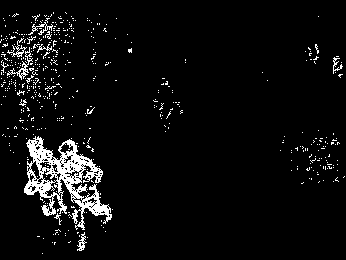person: (56, 139, 113, 250), (24, 137, 69, 224), (152, 78, 183, 131)
